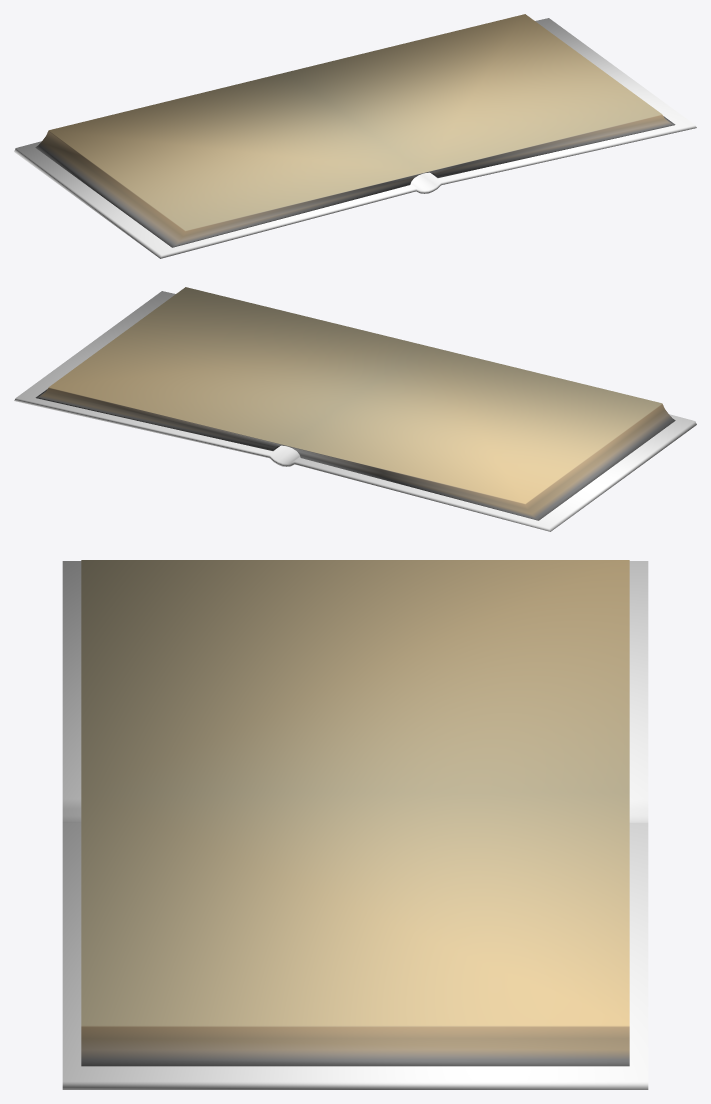
File: flatbook.fbx
3 views of the same model, one above another, from view 1: azimuth 30°, elevation 25°; view 2: azimuth 150°, elevation 25°; view 3: azimuth 270°, elevation 25° (orthographic). The views are drawn at different scales.
Parts seen in each view (by area): view 1: FlatBook; view 2: FlatBook; view 3: FlatBook.
Part boxes in pixels (<box>): FlatBook: <box>14,14,696,258</box>; FlatBook: <box>14,287,696,531</box>; FlatBook: <box>62,560,648,1089</box>.
Bounding box in the file's own units: 93.25 × 2.92 × 44.04.
